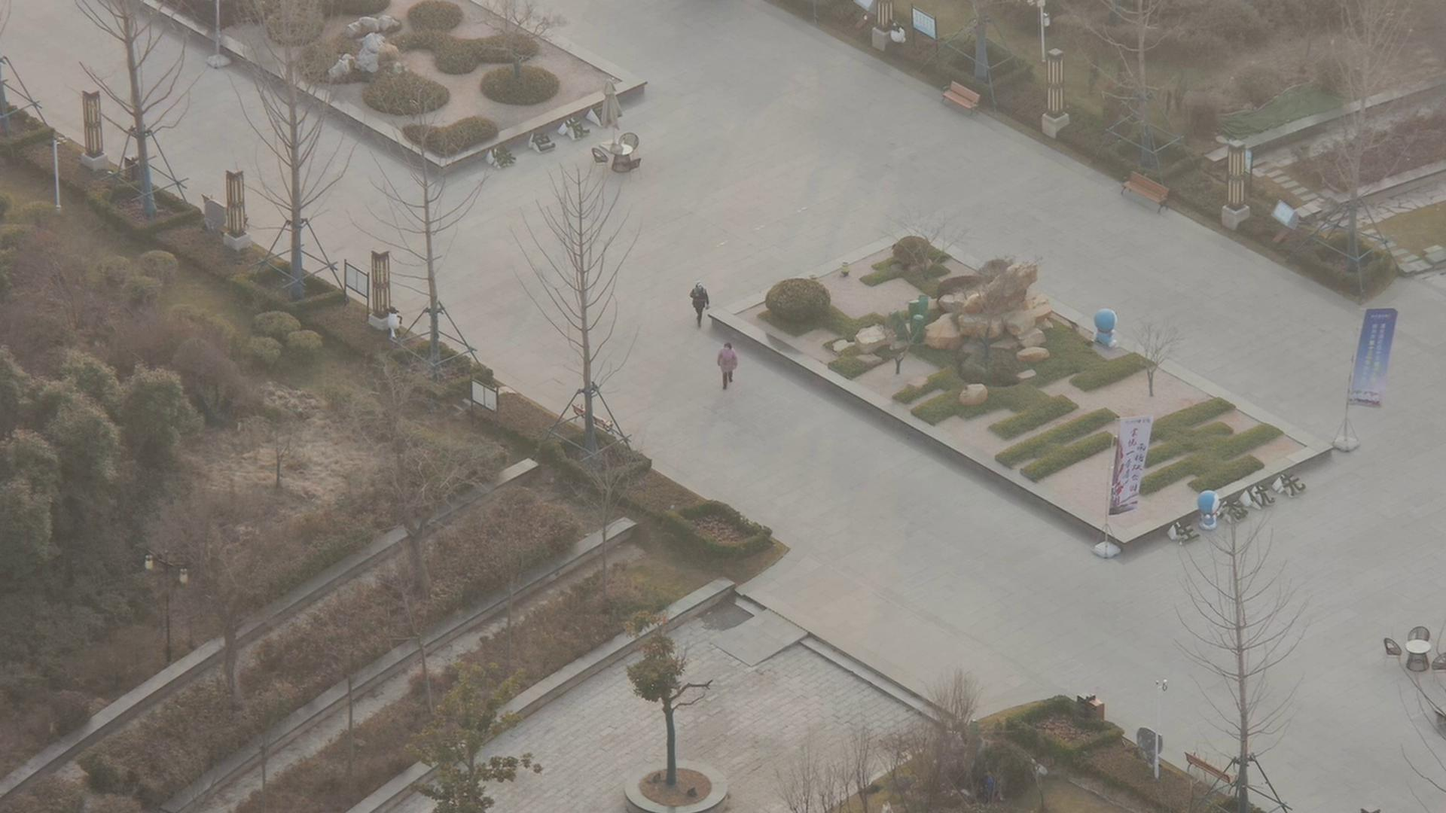human: (718, 326, 747, 391), (690, 265, 718, 320)
